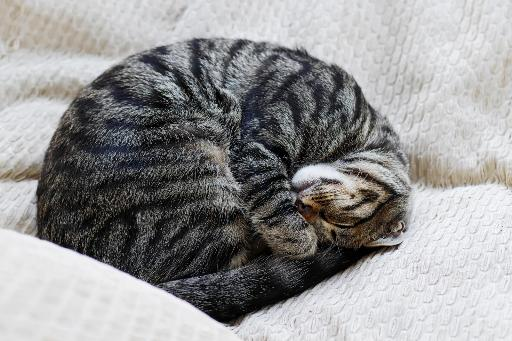cat_sleeping: (37, 39, 412, 320)
